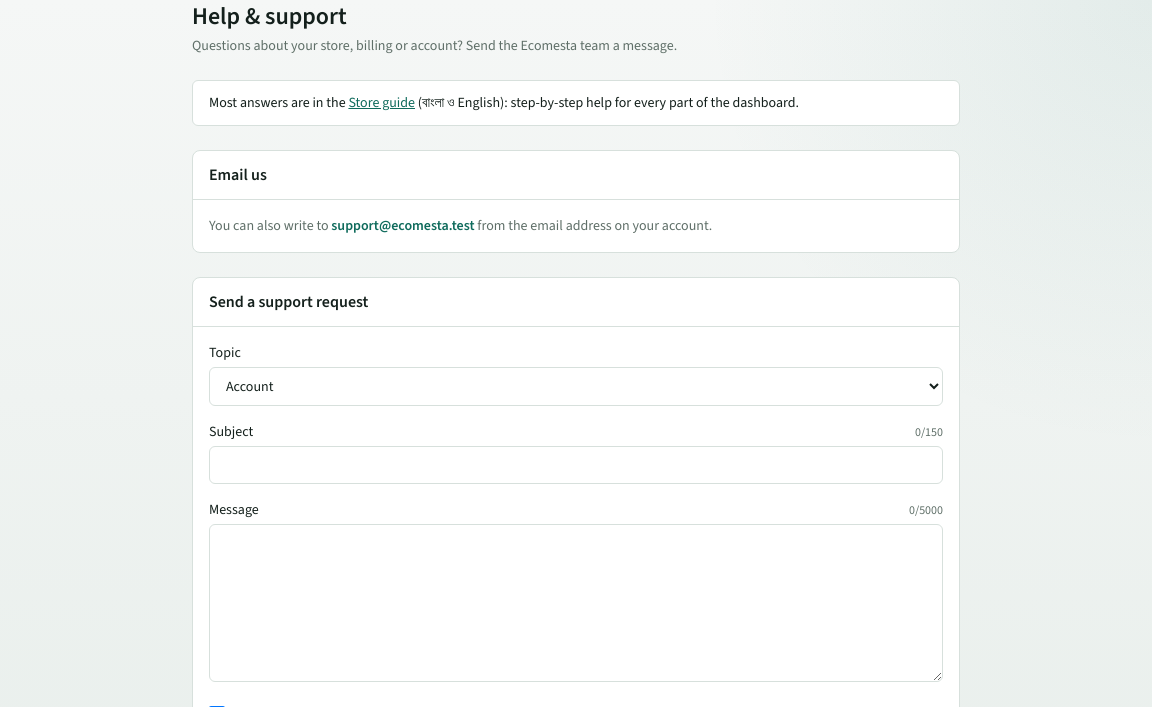
Test: Support page › shows the support email and sends a request with an idempotency id
Select "Billing" in the dropdown labelled "Topic" at {"x": 576, "y": 386}, box [209,367,943,406]
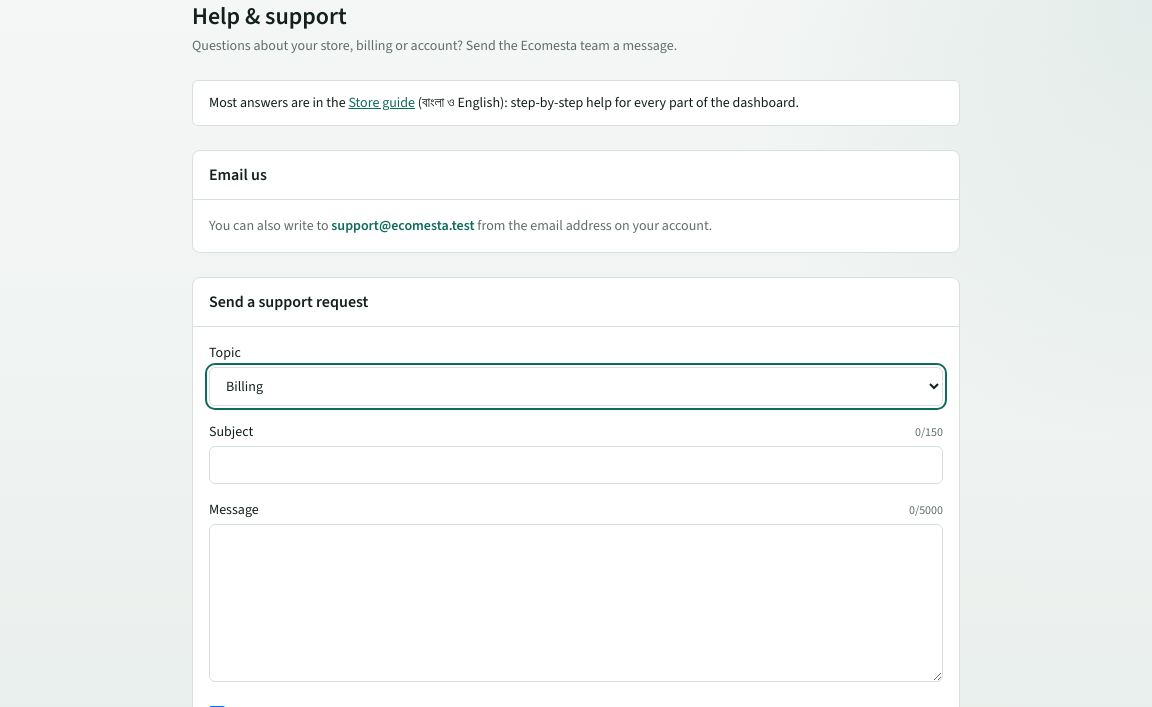
Type "Invoice question" into the field labelled "Subject" at {"x": 576, "y": 465}, box [209,446,943,484]
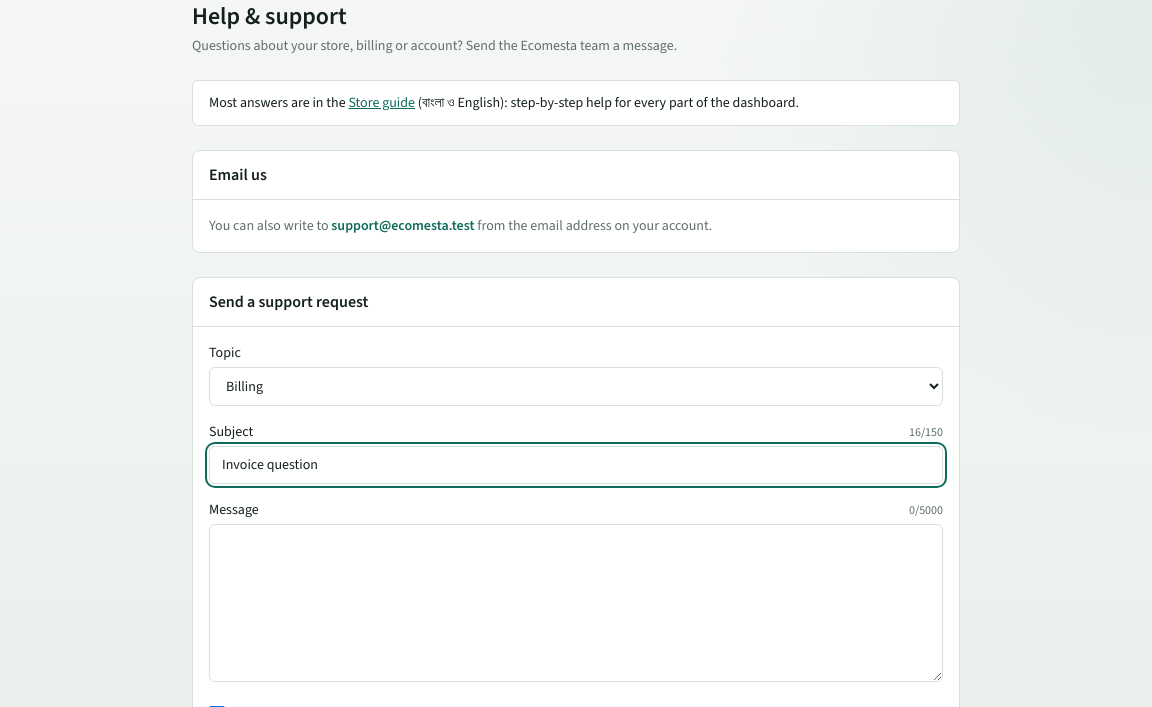
Type "Where can I download my invoice?" into the text box labelled "Message" at {"x": 576, "y": 603}, box [209,524,943,682]
(page scrolled)
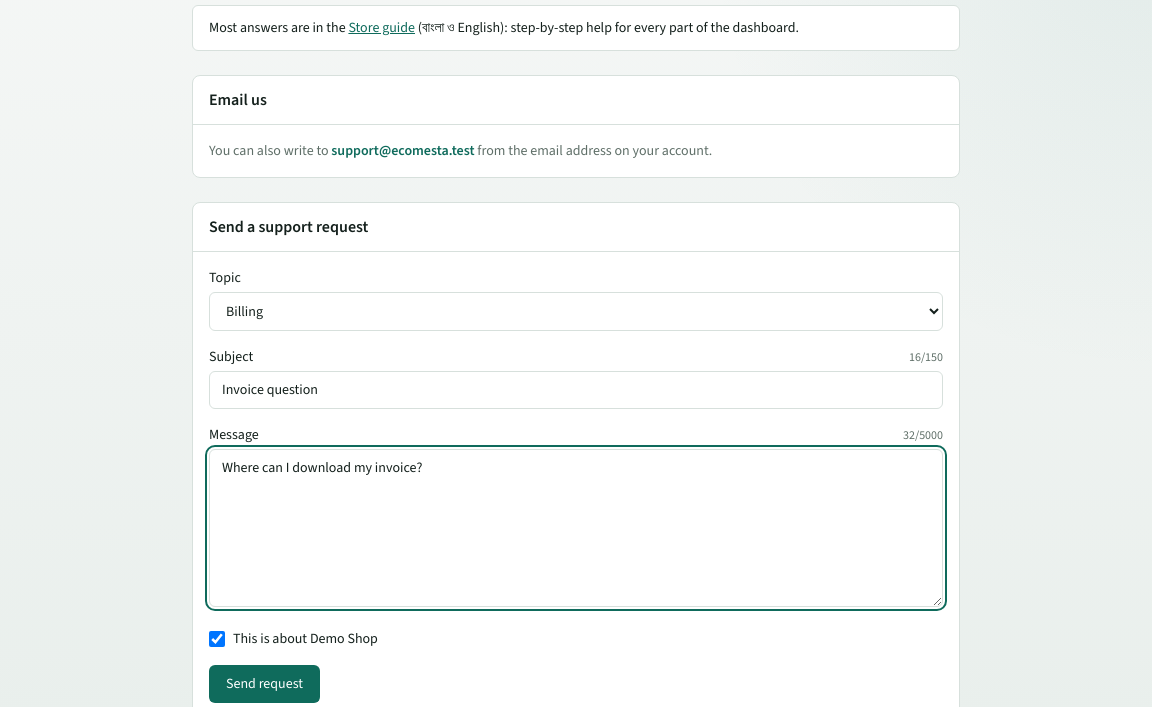
Click the button "Send request" at {"x": 264, "y": 684}, box [209,665,320,703]
(page scrolled)
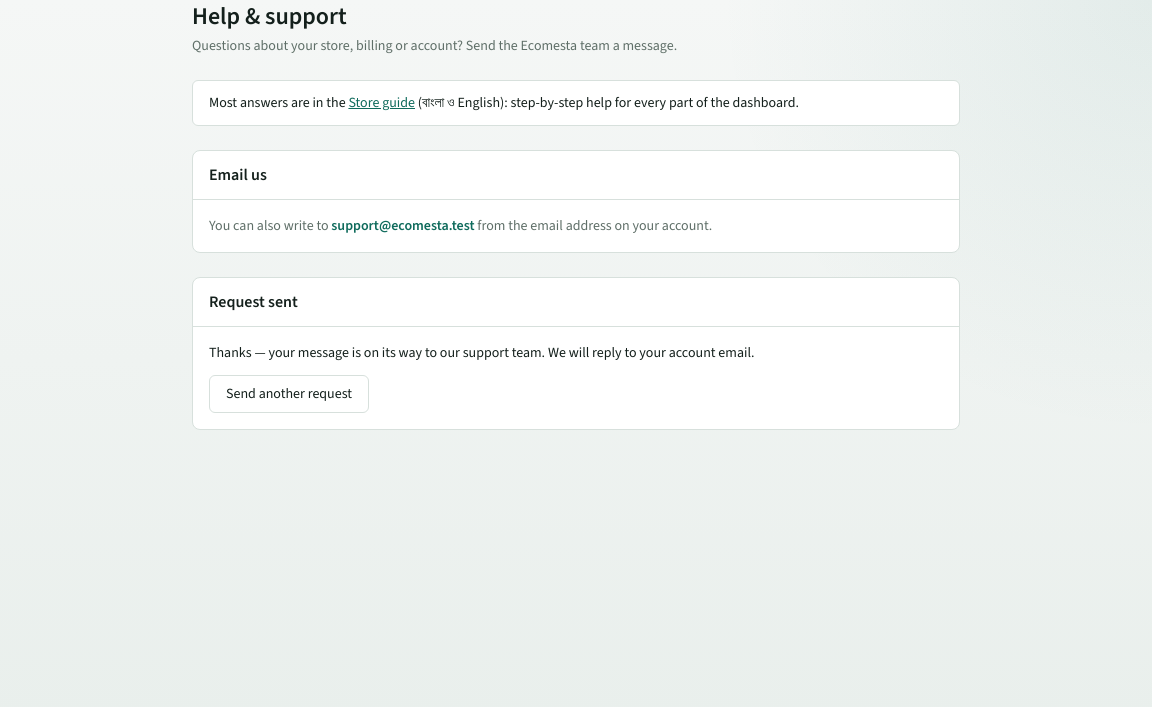
Expected: the text "your message is on its way" is shown, [209,343,754,362]
